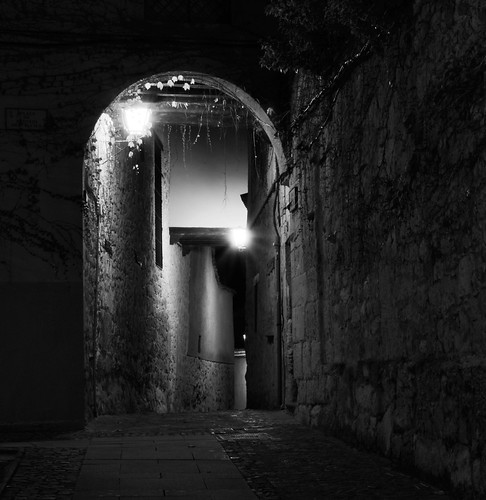building: (233, 1, 486, 500), (1, 1, 241, 413)
